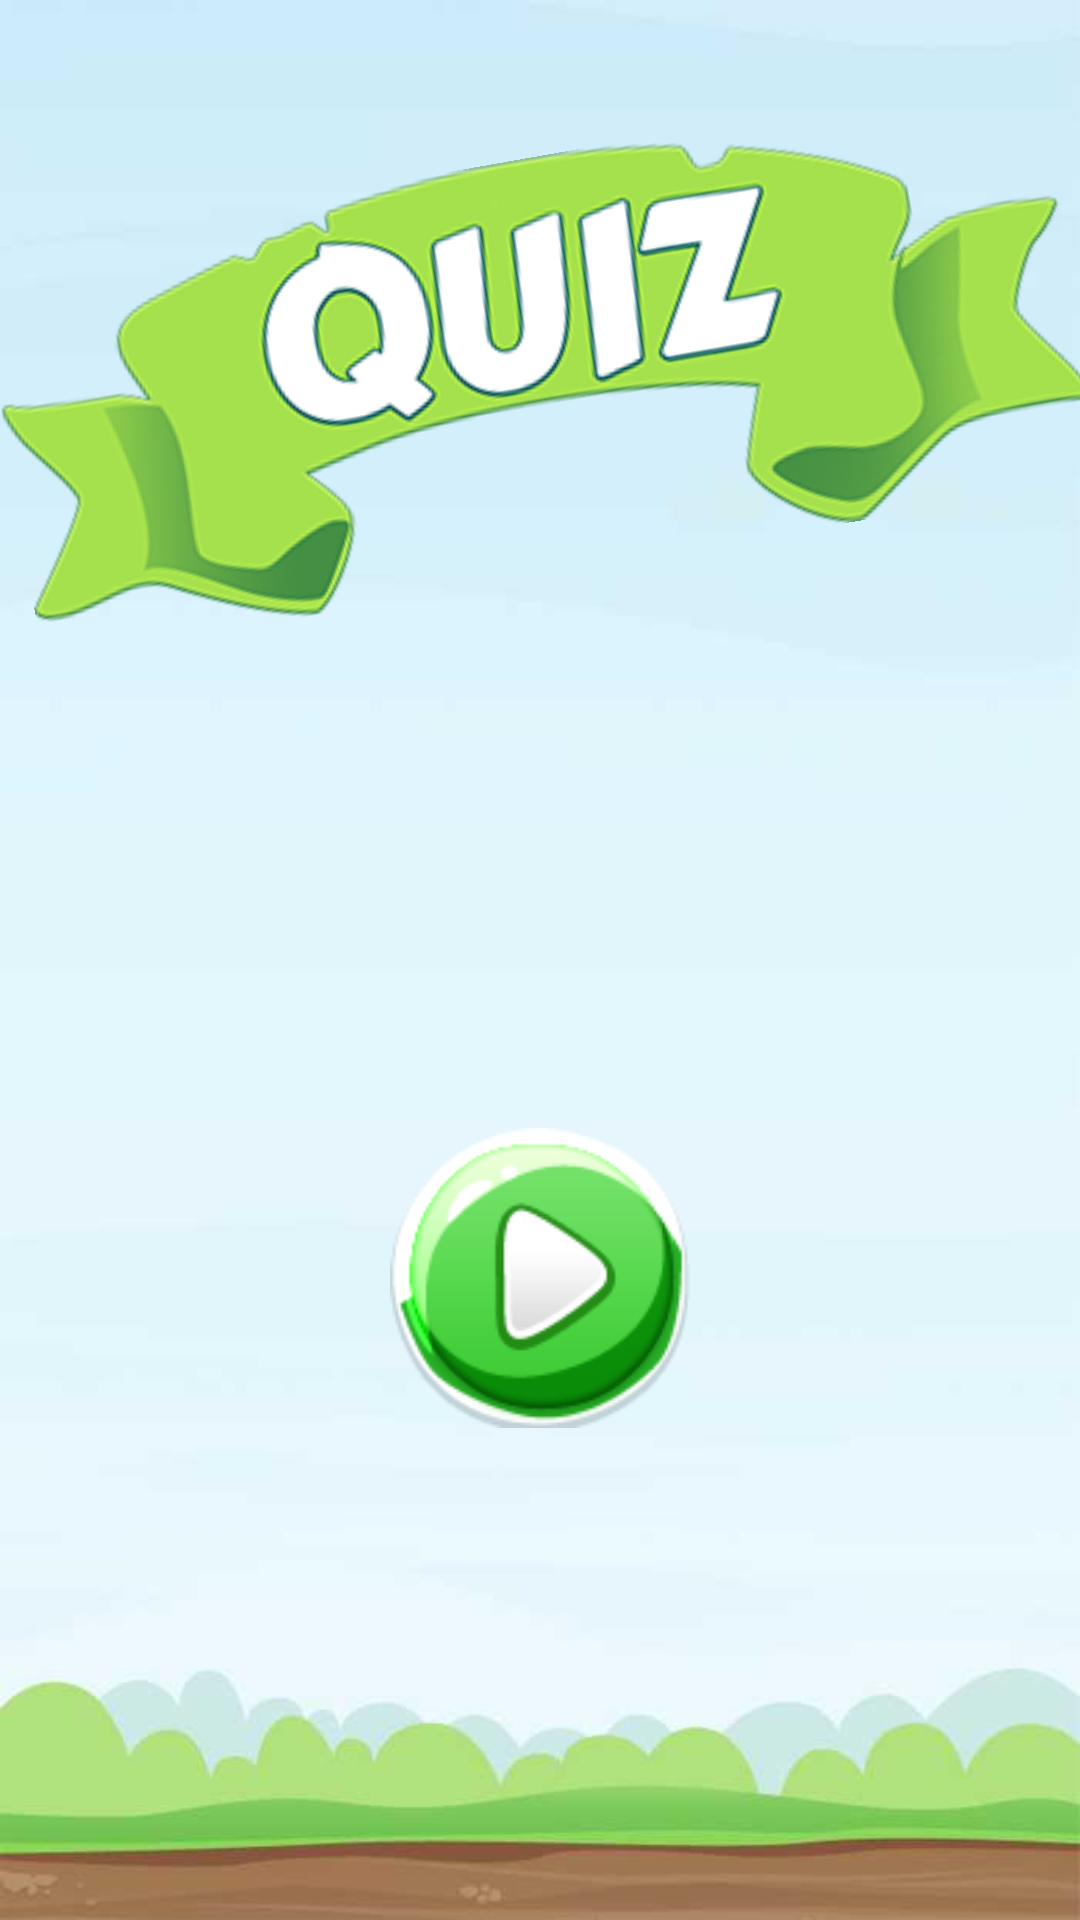

Named icons in this screenshot (1080*1920) and their centers, [x,y]:
play: [538,1279]
